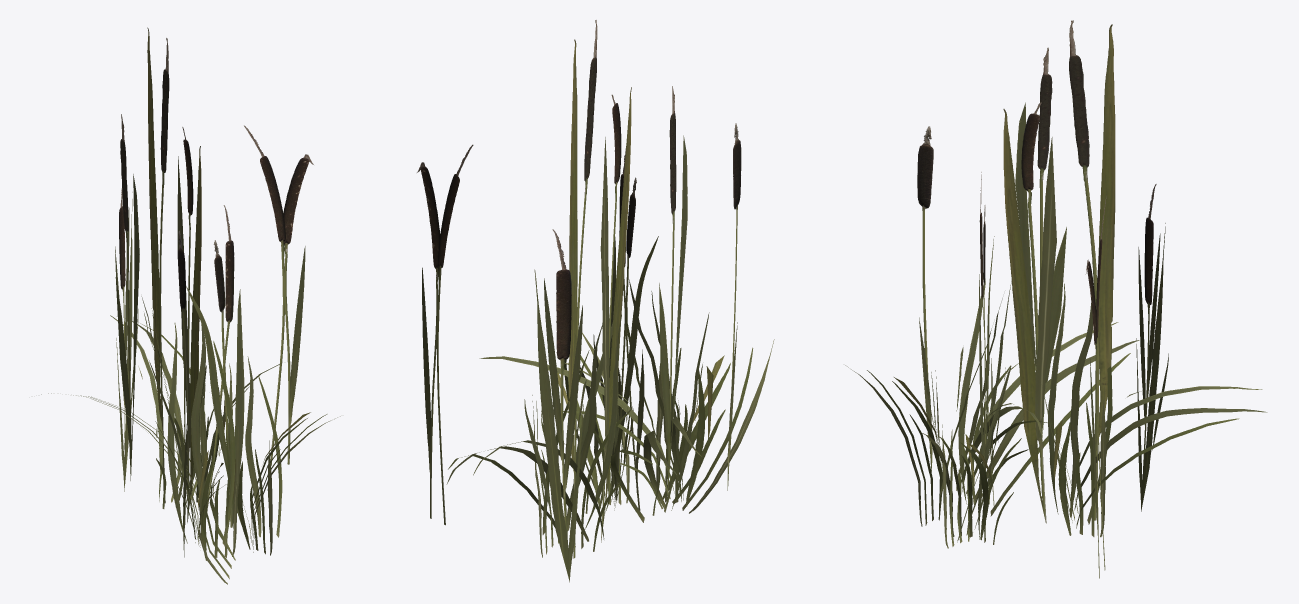
Rendered from SM_GrassPole_03.fbx.
3 views of the same model, side by side, from view 1: azimuth 30°, elevation 25°; view 2: azimuth 150°, elevation 25°; view 3: azimuth 270°, elevation 25° (orthographic). The views are drawn at different scales.
Parts seen in each view (by area): view 1: SM_GrassPole_03; view 2: SM_GrassPole_03; view 3: SM_GrassPole_03.
Part boxes in pixels (x1,y1,x2,y2): SM_GrassPole_03: [41, 27, 340, 584]; SM_GrassPole_03: [417, 20, 774, 582]; SM_GrassPole_03: [845, 20, 1267, 578].
Size of the model in its own units: 64.5 by 88.27 by 107.
Materials: 1 (1 with a texture image).
